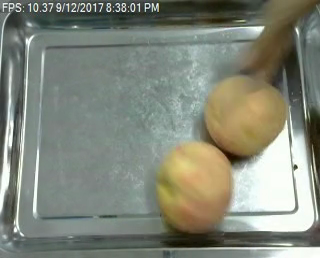Peach: (156, 141, 232, 233), (204, 74, 287, 155)
